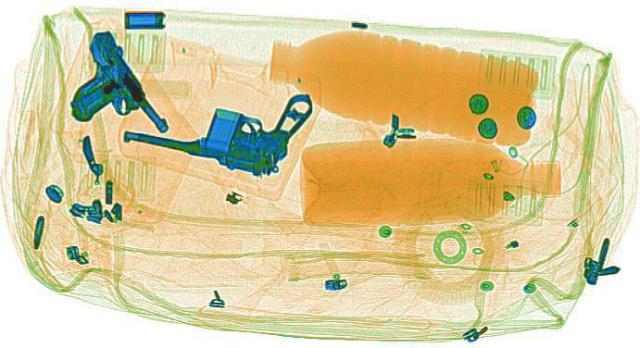Gun: (110, 62, 348, 178), (18, 28, 184, 143)
